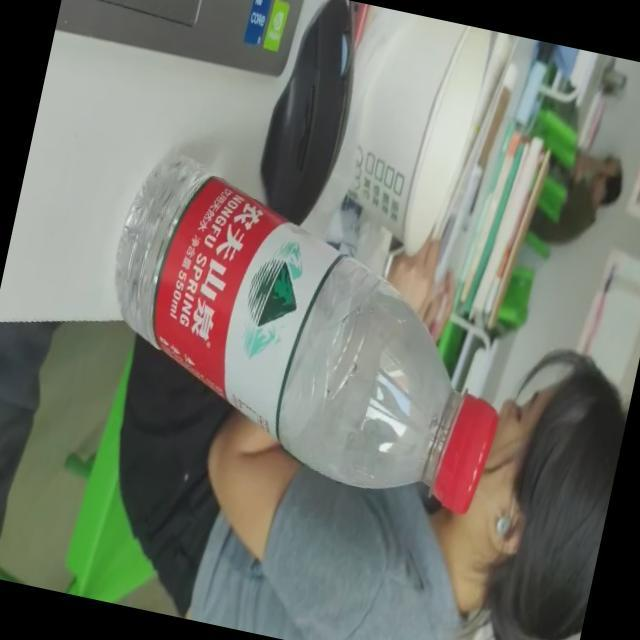good: (88, 138, 544, 517)
